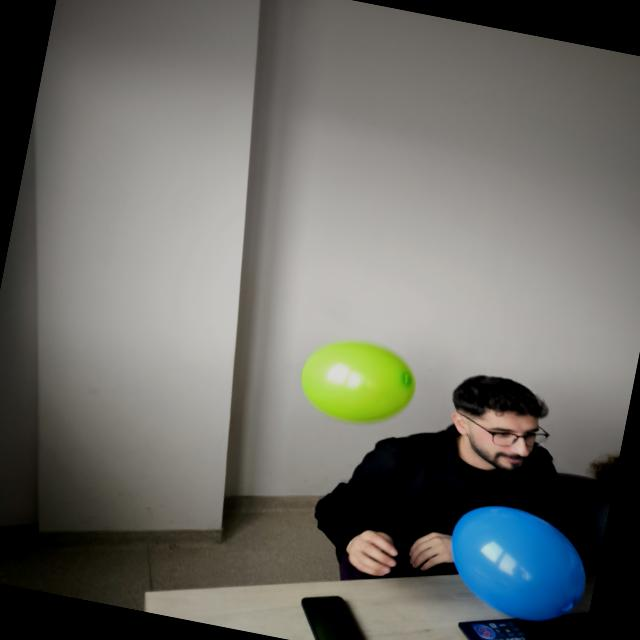balloon: (452, 506, 585, 621), (301, 342, 415, 422)
